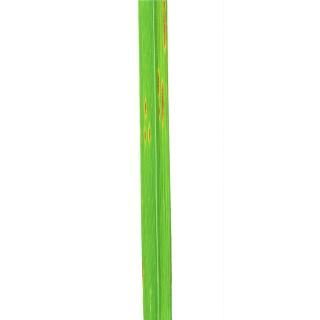Bercak-Cokelat-Sempit: (157, 0, 169, 56), (154, 66, 162, 98), (140, 96, 150, 120), (161, 78, 166, 126), (141, 125, 147, 145), (148, 122, 152, 144), (158, 104, 161, 121)
